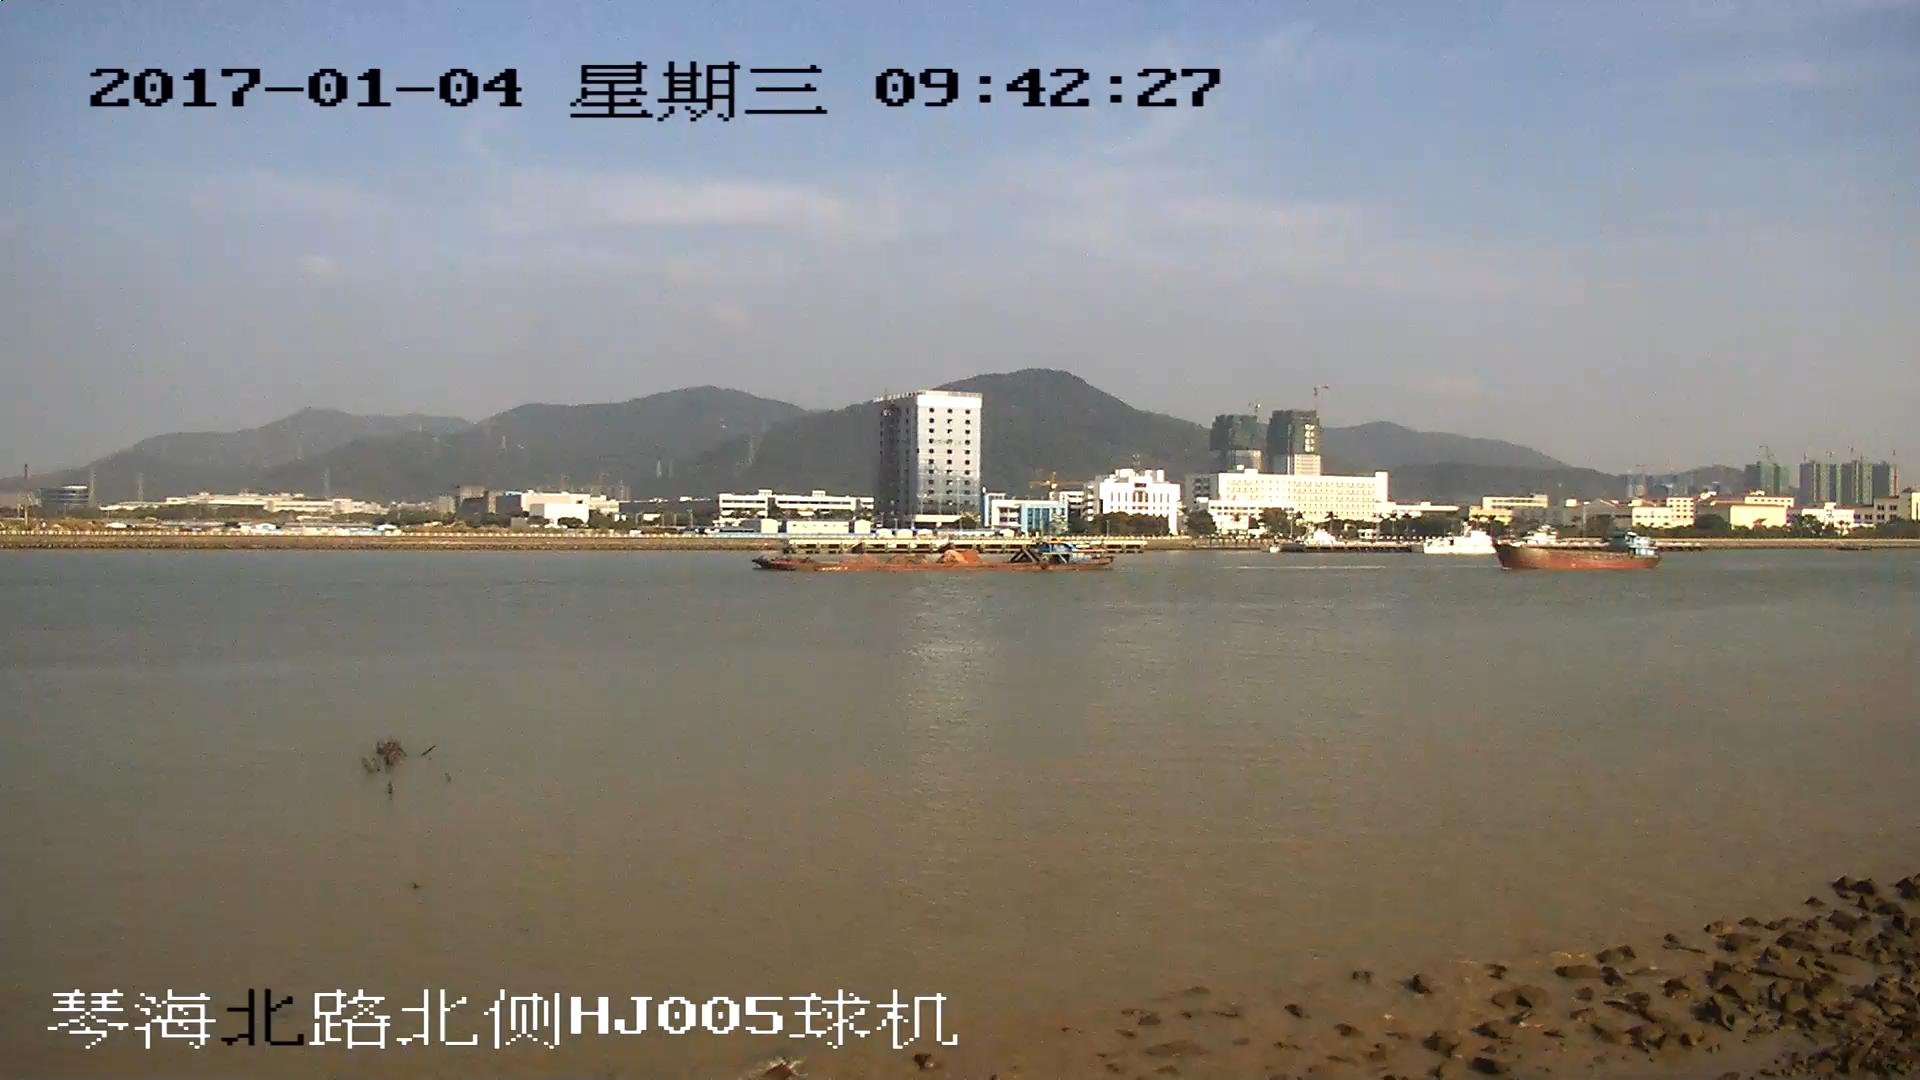bulk cargo carrier: (1500, 534, 1657, 571)
ore carrier: (758, 538, 1109, 568)
